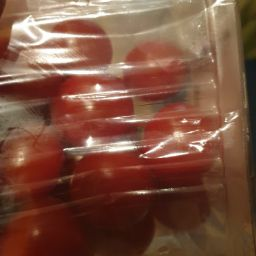Pea tomatoes: (7, 4, 217, 245), (23, 107, 168, 253), (4, 192, 152, 256), (140, 146, 223, 234), (58, 136, 147, 218), (49, 70, 132, 144), (1, 119, 71, 201), (37, 23, 120, 90), (117, 42, 195, 105)
